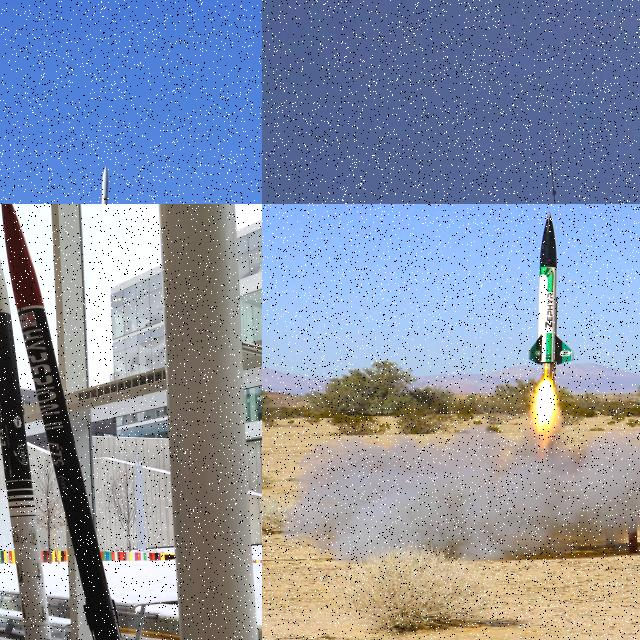Rocket: (1, 204, 123, 640), (0, 257, 52, 640), (526, 210, 576, 366), (549, 151, 563, 204), (101, 166, 109, 204)
